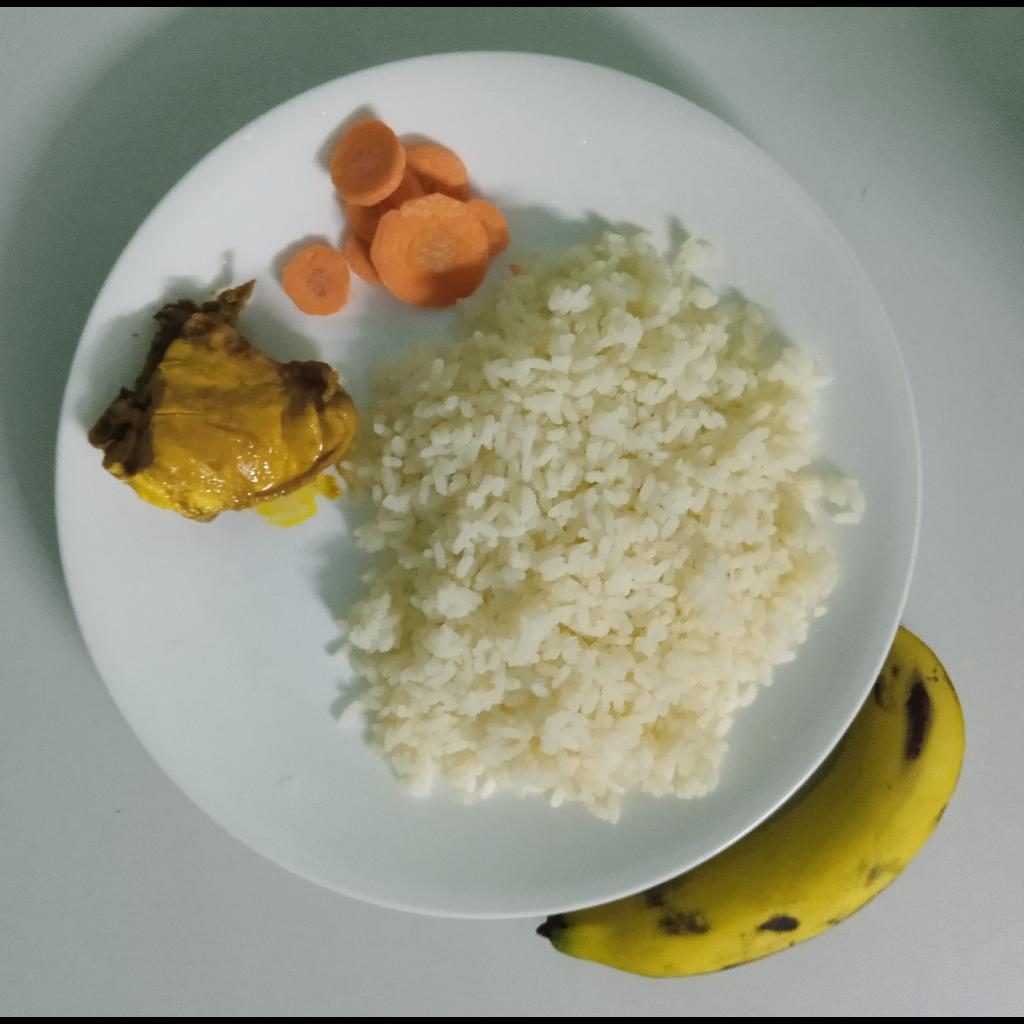banana: (534, 626, 966, 979)
carrot: (281, 120, 510, 317)
chicken: (87, 277, 354, 525)
rice: (332, 231, 858, 817)
